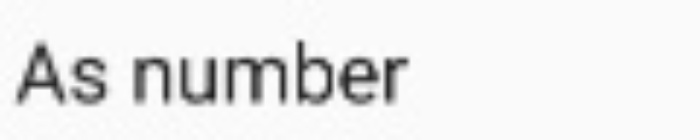TextView: (1, 1, 699, 139)
